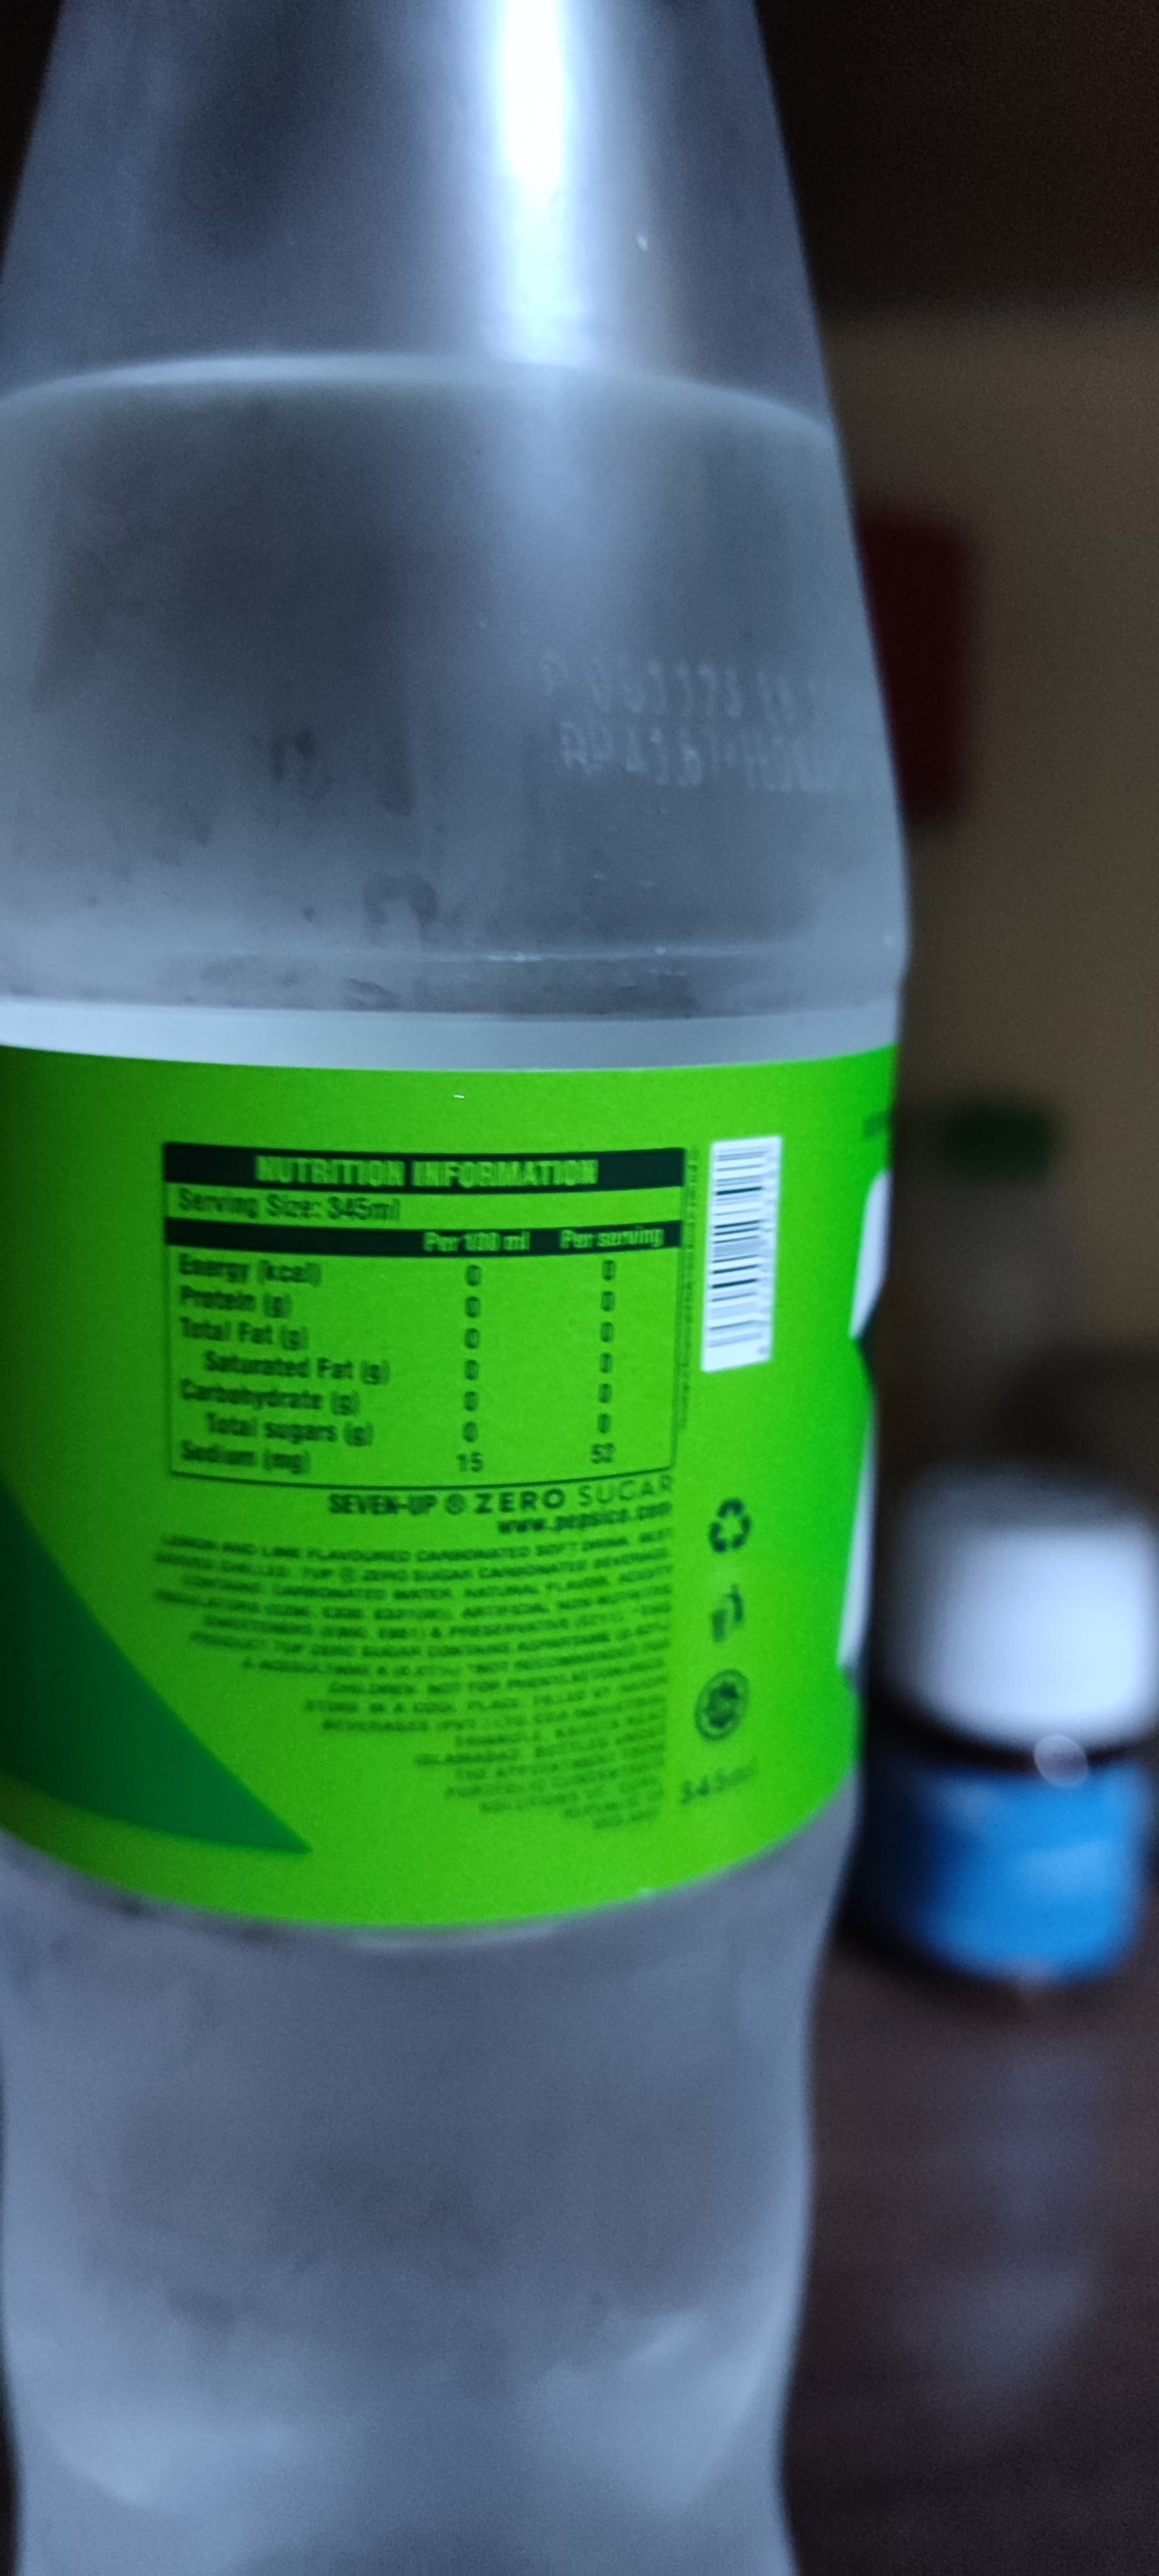table: (149, 1132, 696, 1487)
